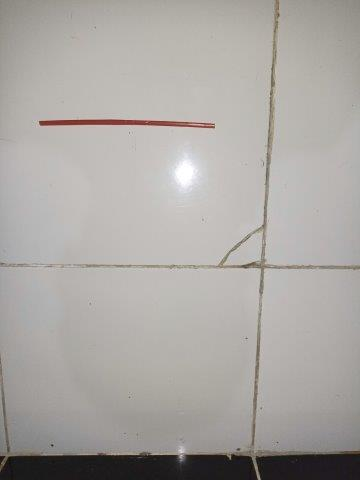sedotan: (39, 119, 215, 129)
